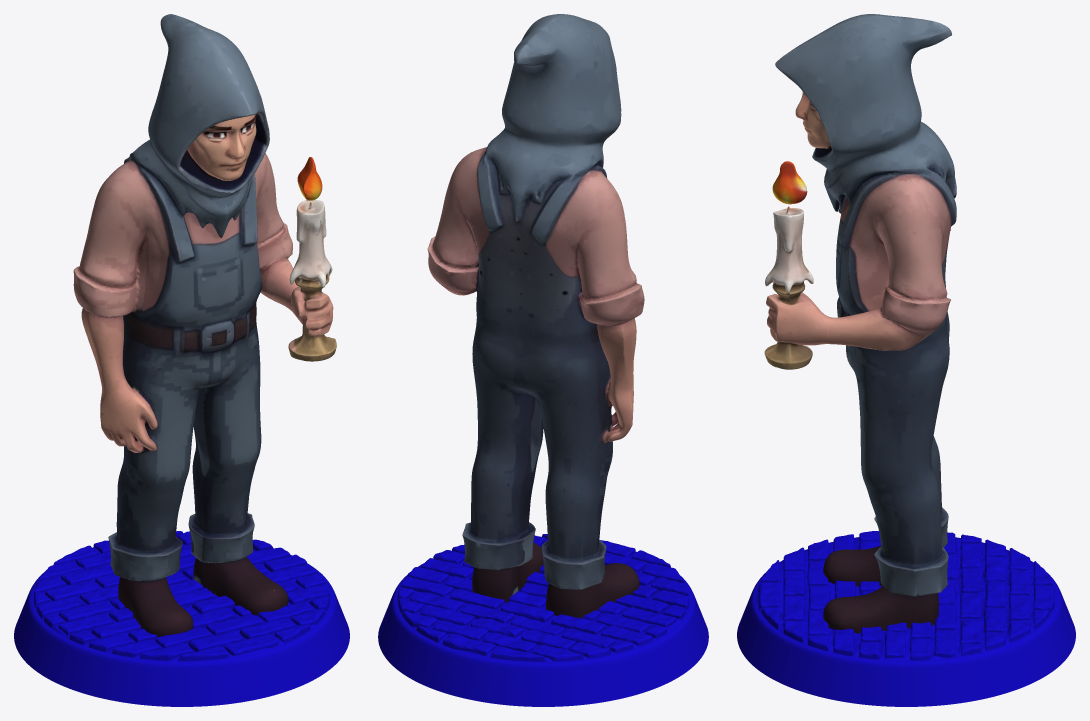
Rendered from janitor_base_aceso.glb.
3 renders of one model, left to right at view 1: azimuth 30°, elevation 25°; view 2: azimuth 150°, elevation 25°; view 3: azimuth 270°, elevation 25°, orthographic. The views are drawn at different scales.
Parts seen in each view (by area): view 1: mesh_node.001, Object_3.002; view 2: mesh_node.001, Object_3.002; view 3: mesh_node.001, Object_3.002.
Boxes of the visible parts, x1,y1,x2,y2 form: mesh_node.001: (73,14,336,637); Object_3.002: (14,531,349,706); mesh_node.001: (427,14,644,618); Object_3.002: (378,534,708,706); mesh_node.001: (764,14,956,633); Object_3.002: (737,531,1075,706).
Bounding box in the file's own units: 0.4185 × 0.8457 × 0.4185.
2 materials, 1 textured.
